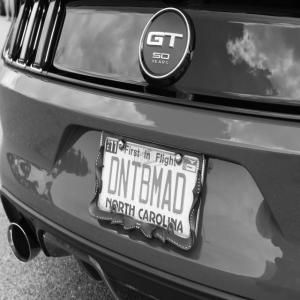Plate: (88, 131, 204, 250)
